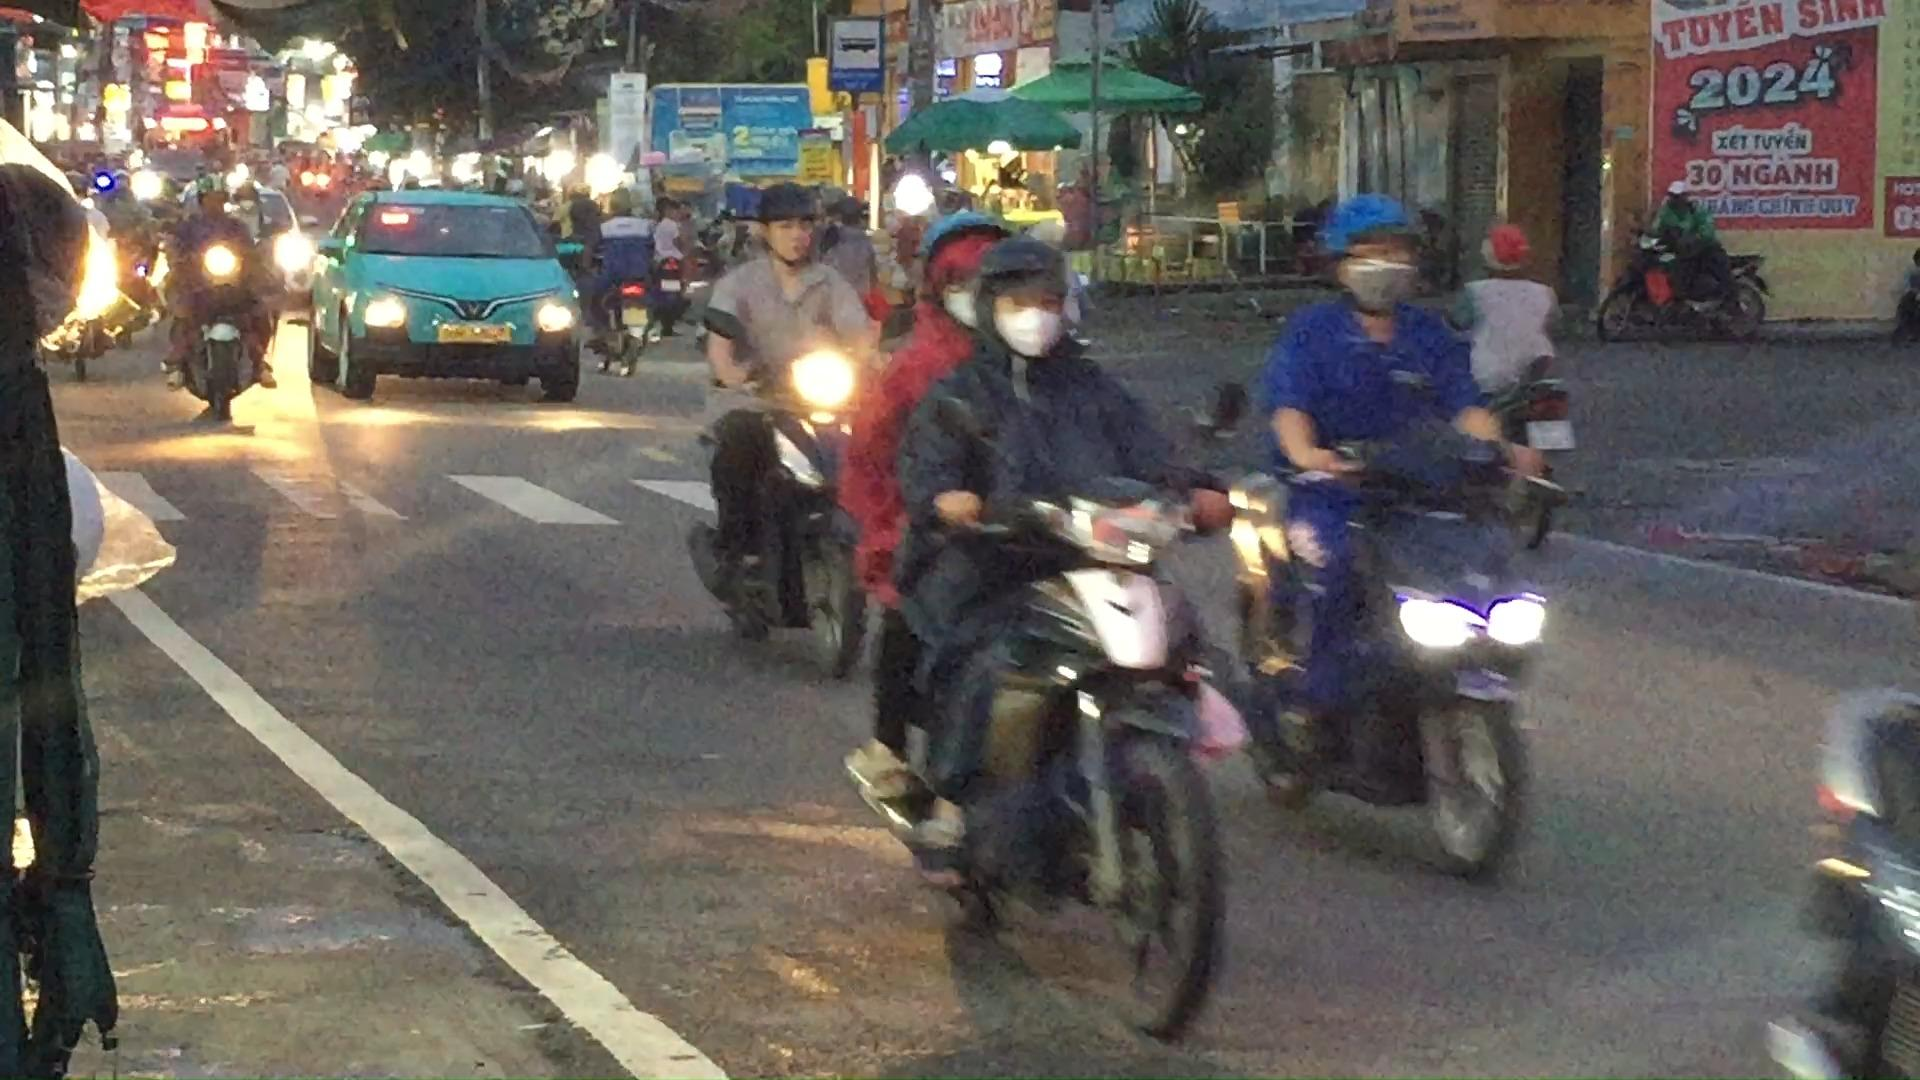bien_so: (433, 319, 517, 347)
